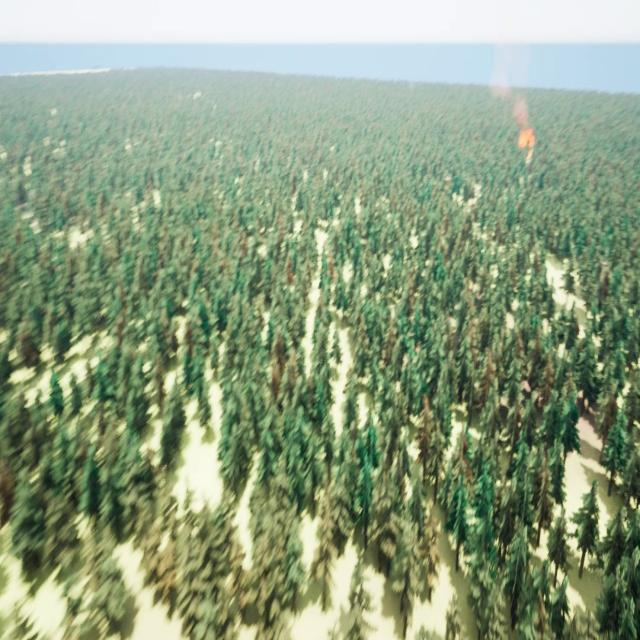fire: (518, 129, 537, 164)
smoke: (489, 38, 532, 135)
